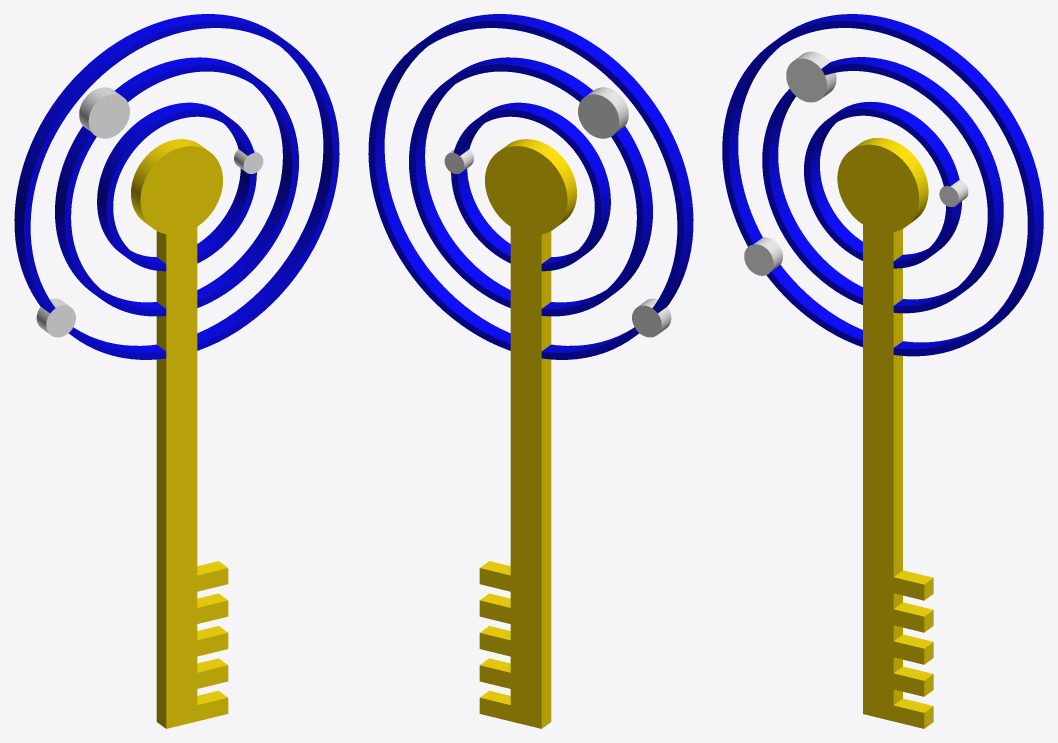
File: track_key_blue.dae
3 views of the same model, side by side, from view 1: azimuth 30°, elevation 25°; view 2: azimuth 150°, elevation 25°; view 3: azimuth 330°, elevation 25° (orthographic).
Parts seen in each view (by area): view 1: Component_2 (×10); view 2: Component_2 (×9); view 3: Component_2 (×9).
Boxes of the visible parts, x1,y1,x2,y2 form: Component_2 (×10): [14, 14, 339, 728]; Component_2 (×9): [368, 14, 693, 728]; Component_2 (×9): [722, 14, 1043, 728].
Bounding box in the file's own units: 150 × 7.87 × 319.
